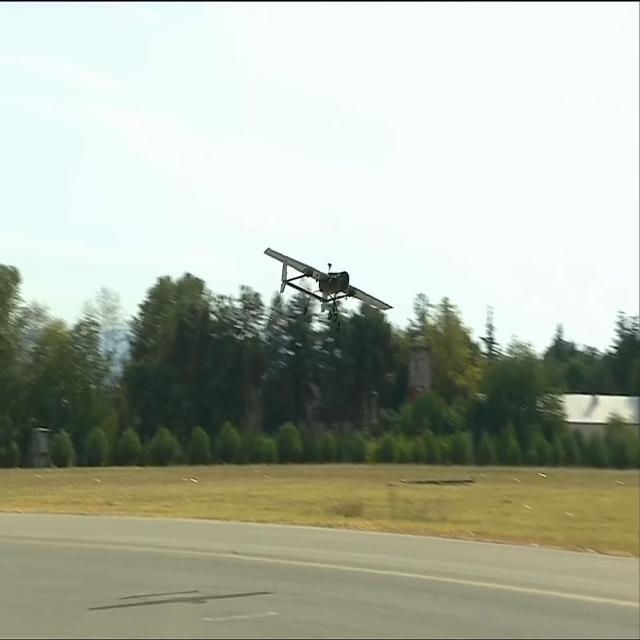iha: (255, 277, 386, 295)
